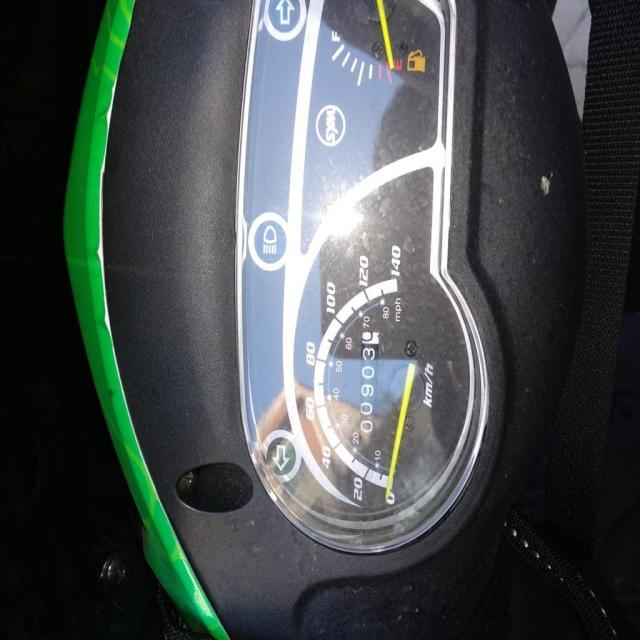odometer: (356, 328, 380, 442)
